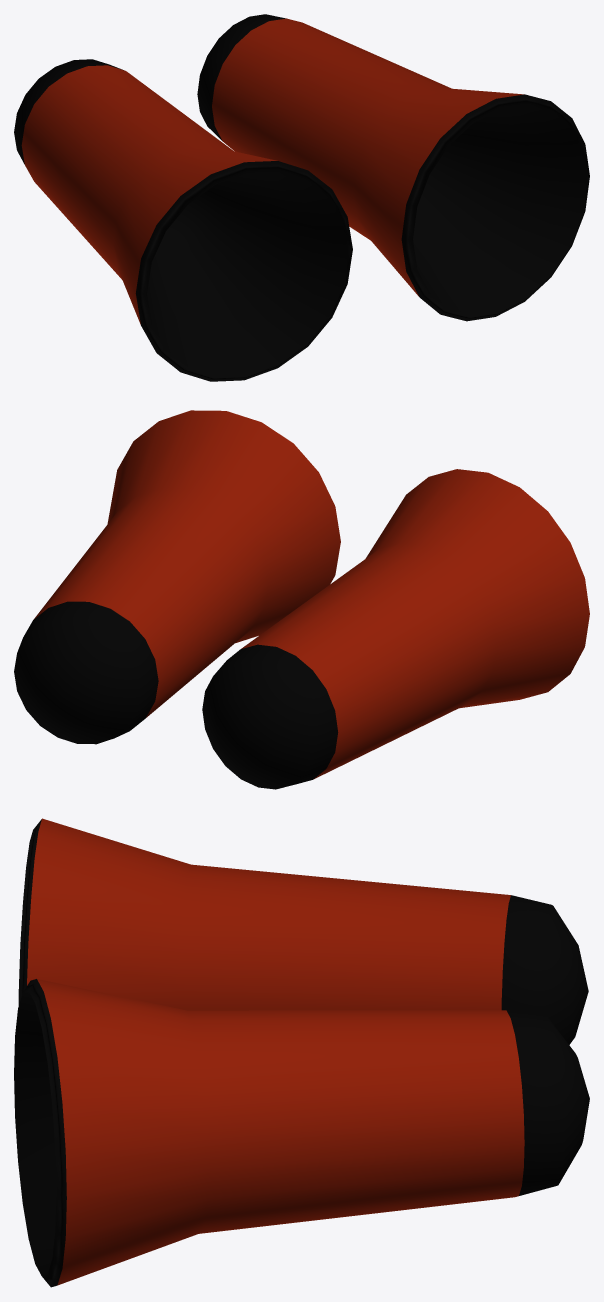
File: Horde Engine 4.fbx
3 views of the same model, one above another, from view 1: azimuth 30°, elevation 25°; view 2: azimuth 150°, elevation 25°; view 3: azimuth 270°, elevation 25° (orthographic). The views are drawn at different scales.
Visible parts, largest first — view 1: pCylinder22; view 2: pCylinder22; view 3: pCylinder22.
Part boxes in pixels (bbox=[...]): pCylinder22: bbox=[14, 14, 589, 381]; pCylinder22: bbox=[14, 410, 589, 789]; pCylinder22: bbox=[14, 818, 589, 1287].
Size of the model in its own units: 11.38 by 5.15 by 9.52.
